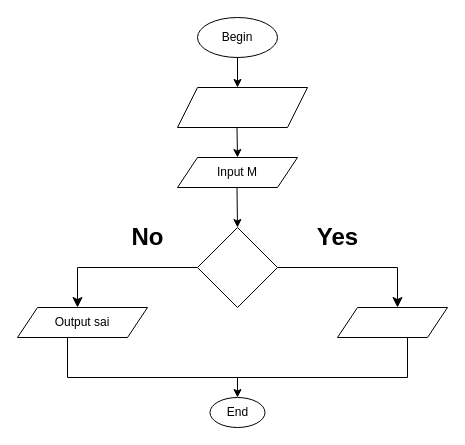
Some shapes in this 465 by 445 pixel diagram are drawn without their labels. Each missing label, with the box of its shape:
Input N (from 0-9): (176, 86, 308, 128)
Output dung: (336, 306, 448, 338)
